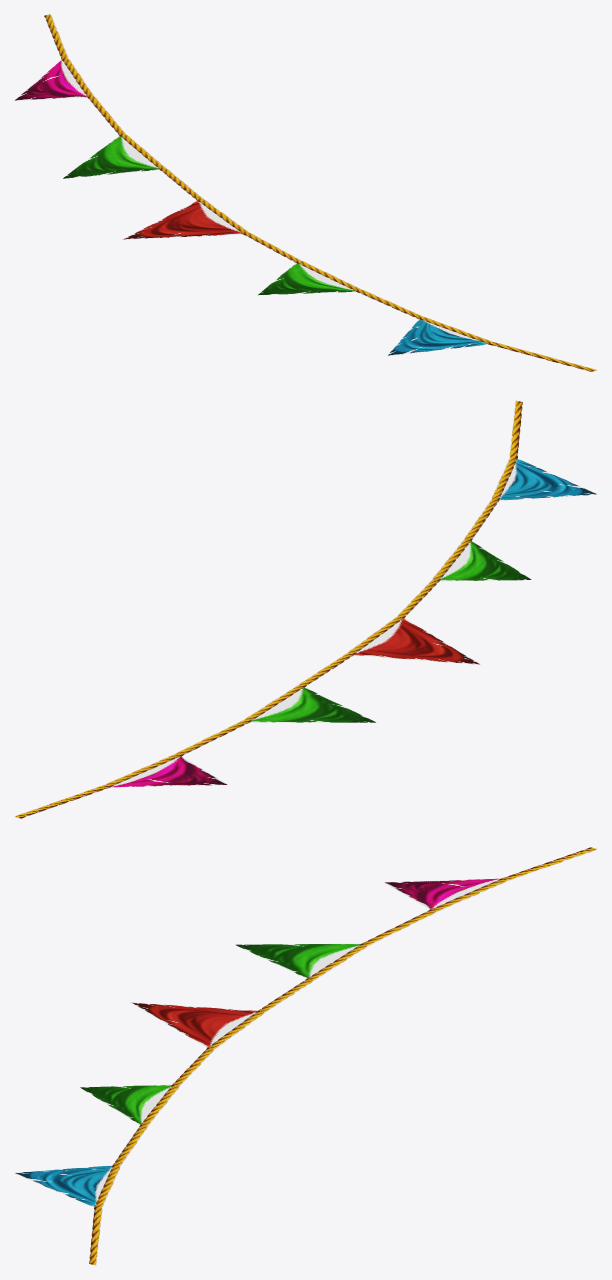
File: banner.fbx
The picture shows the model from 3 angles, top to bottom: view 1: azimuth 30°, elevation 25°; view 2: azimuth 150°, elevation 25°; view 3: azimuth 330°, elevation 25°; orthographic projection. The views are drawn at different scales.
Parts seen in each view (by area): view 1: banner; view 2: banner; view 3: banner.
Boxes of the visible parts, x1,y1,x2,y2 form: banner: (14, 14, 597, 371); banner: (14, 400, 597, 818); banner: (14, 847, 597, 1265).
Size of the model in its own units: 76.17 by 0.3315 by 298.
Materials: 1 (1 with a texture image).
